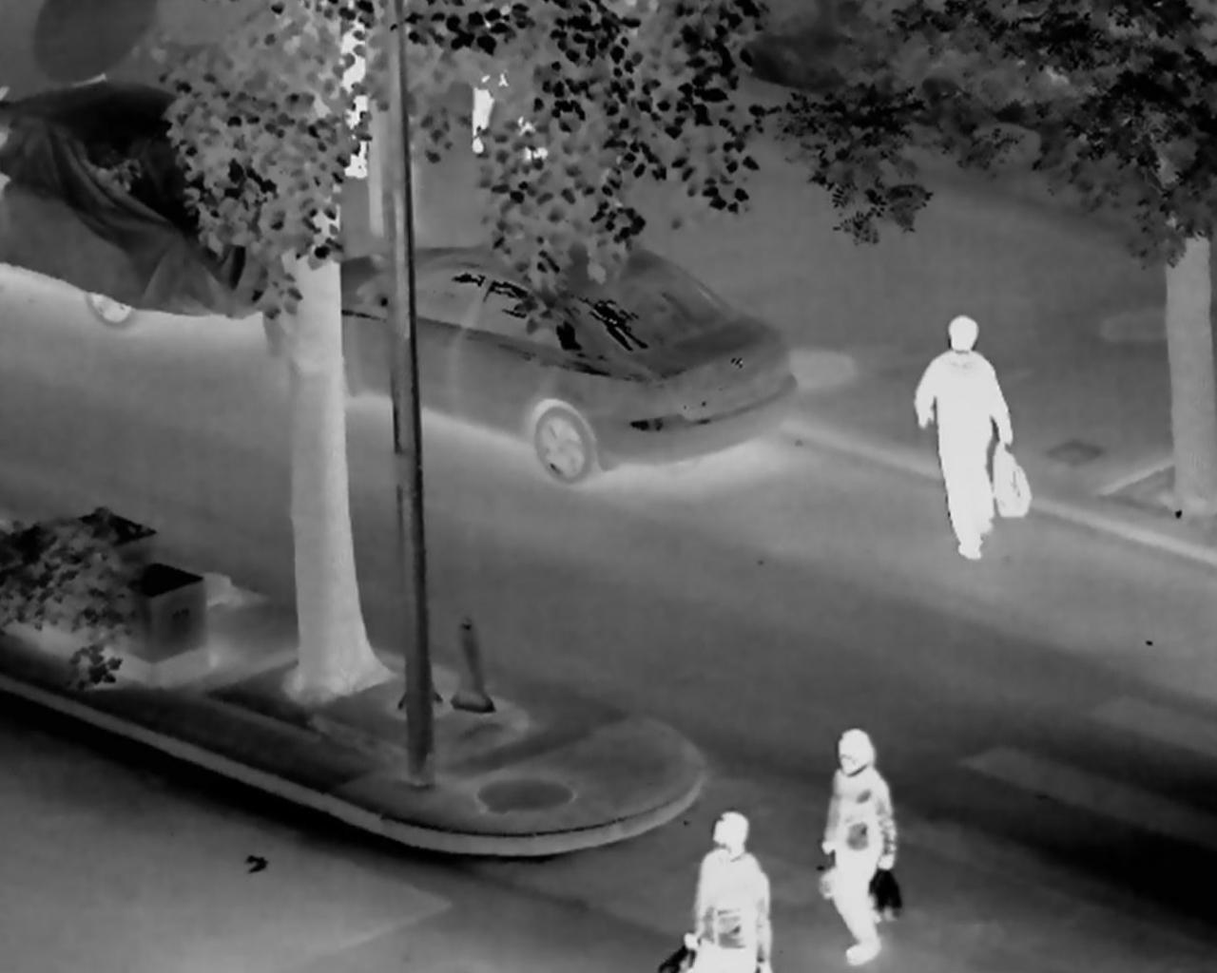person: (912, 315, 1014, 562), (817, 729, 900, 965), (663, 809, 776, 973), (463, 13, 557, 162)
